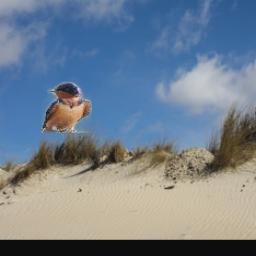Swallow: (42, 81, 92, 133)
